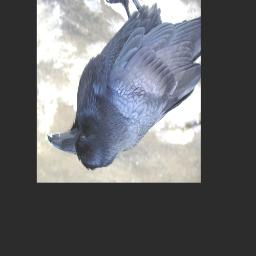Crow: (47, 0, 200, 170)
